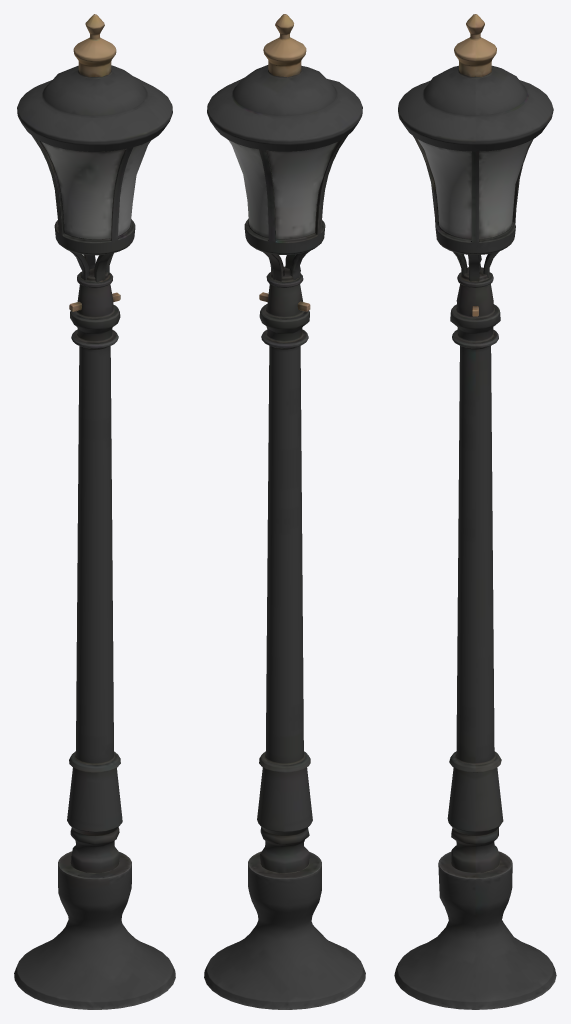
File: SM_LightPole_A2_9914e7.glb
3 views of the same model, side by side, from view 1: azimuth 30°, elevation 25°; view 2: azimuth 150°, elevation 25°; view 3: azimuth 270°, elevation 25° (orthographic).
Size of the model in its own units: 0.3531 by 2.31 by 0.3531.
1 material, 1 textured.
